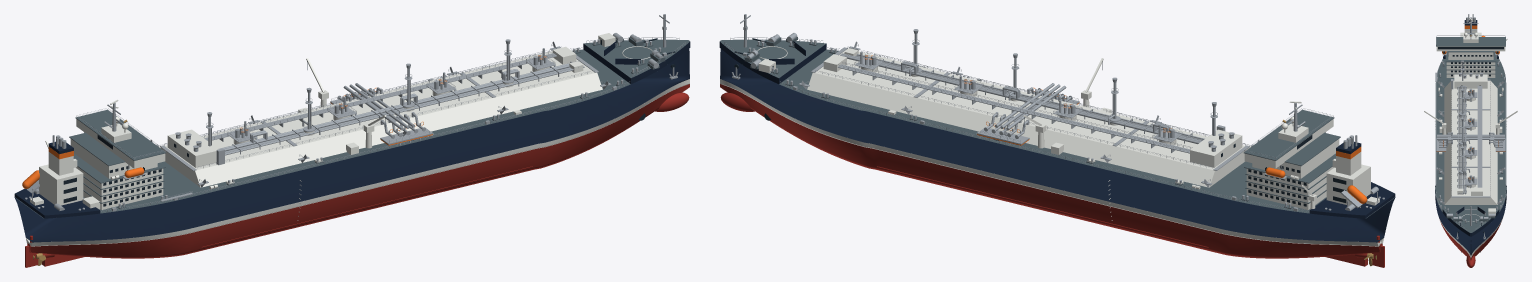
Rendered from hanwha-ocean-lngc-174k.glb.
3 renders of one model, left to right at view 1: azimuth 30°, elevation 25°; view 2: azimuth 150°, elevation 25°; view 3: azimuth 270°, elevation 25°, orthographic. The views are drawn at different scales.
Parts seen in each view (by area): view 1: draft_mark_287, hull_topside, rail_P_stanchion_0, hull_underwater, main_deck, hull_boottop, forecastle, bulbous_bow, bow_thruster_286, handwheel1_0; view 2: draft_mark_287, hull_topside, rail_P_stanchion_0, hull_underwater, main_deck, hull_boottop, forecastle, bulbous_bow, bow_thruster_286, handwheel1_0; view 3: draft_mark_287, main_deck, rail_P_stanchion_0, hull_topside, bow_thruster_286, forecastle, hull_underwater, hull_boottop, handwheel1_0, bulbous_bow.
Part boxes in pixels (x1=…): draft_mark_287: x1=30, y1=33, x2=652, y2=220; hull_topside: x1=14, y1=49, x2=689, y2=242; rail_P_stanchion_0: x1=25, y1=14, x2=685, y2=211; hull_underwater: x1=27, y1=84, x2=689, y2=258; main_deck: x1=15, y1=36, x2=689, y2=218; hull_boottop: x1=26, y1=79, x2=689, y2=246; forecastle: x1=14, y1=41, x2=690, y2=218; bulbous_bow: x1=25, y1=92, x2=689, y2=267; bow_thruster_286: x1=63, y1=38, x2=675, y2=206; handwheel1_0: x1=22, y1=55, x2=546, y2=188; draft_mark_287: x1=757, y1=46, x2=1379, y2=220; hull_topside: x1=720, y1=49, x2=1395, y2=242; rail_P_stanchion_0: x1=724, y1=14, x2=1384, y2=211; hull_underwater: x1=720, y1=84, x2=1382, y2=258; main_deck: x1=720, y1=36, x2=1394, y2=218; hull_boottop: x1=720, y1=79, x2=1383, y2=246; forecastle: x1=719, y1=41, x2=1395, y2=218; bulbous_bow: x1=720, y1=92, x2=1384, y2=267; bow_thruster_286: x1=734, y1=38, x2=1346, y2=206; handwheel1_0: x1=864, y1=55, x2=1367, y2=203; draft_mark_287: x1=1424, y1=17, x2=1517, y2=221; main_deck: x1=1435, y1=37, x2=1506, y2=232; rail_P_stanchion_0: x1=1435, y1=14, x2=1506, y2=239; hull_topside: x1=1435, y1=185, x2=1506, y2=255; bow_thruster_286: x1=1438, y1=47, x2=1503, y2=252; forecastle: x1=1442, y1=20, x2=1499, y2=236; hull_underwater: x1=1440, y1=221, x2=1501, y2=260; hull_boottop: x1=1438, y1=217, x2=1503, y2=257; handwheel1_0: x1=1436, y1=25, x2=1505, y2=179; bulbous_bow: x1=1466, y1=255, x2=1475, y2=267.
Size of what is drawn, in the model's own units: 301 by 63.38 by 61.83.
